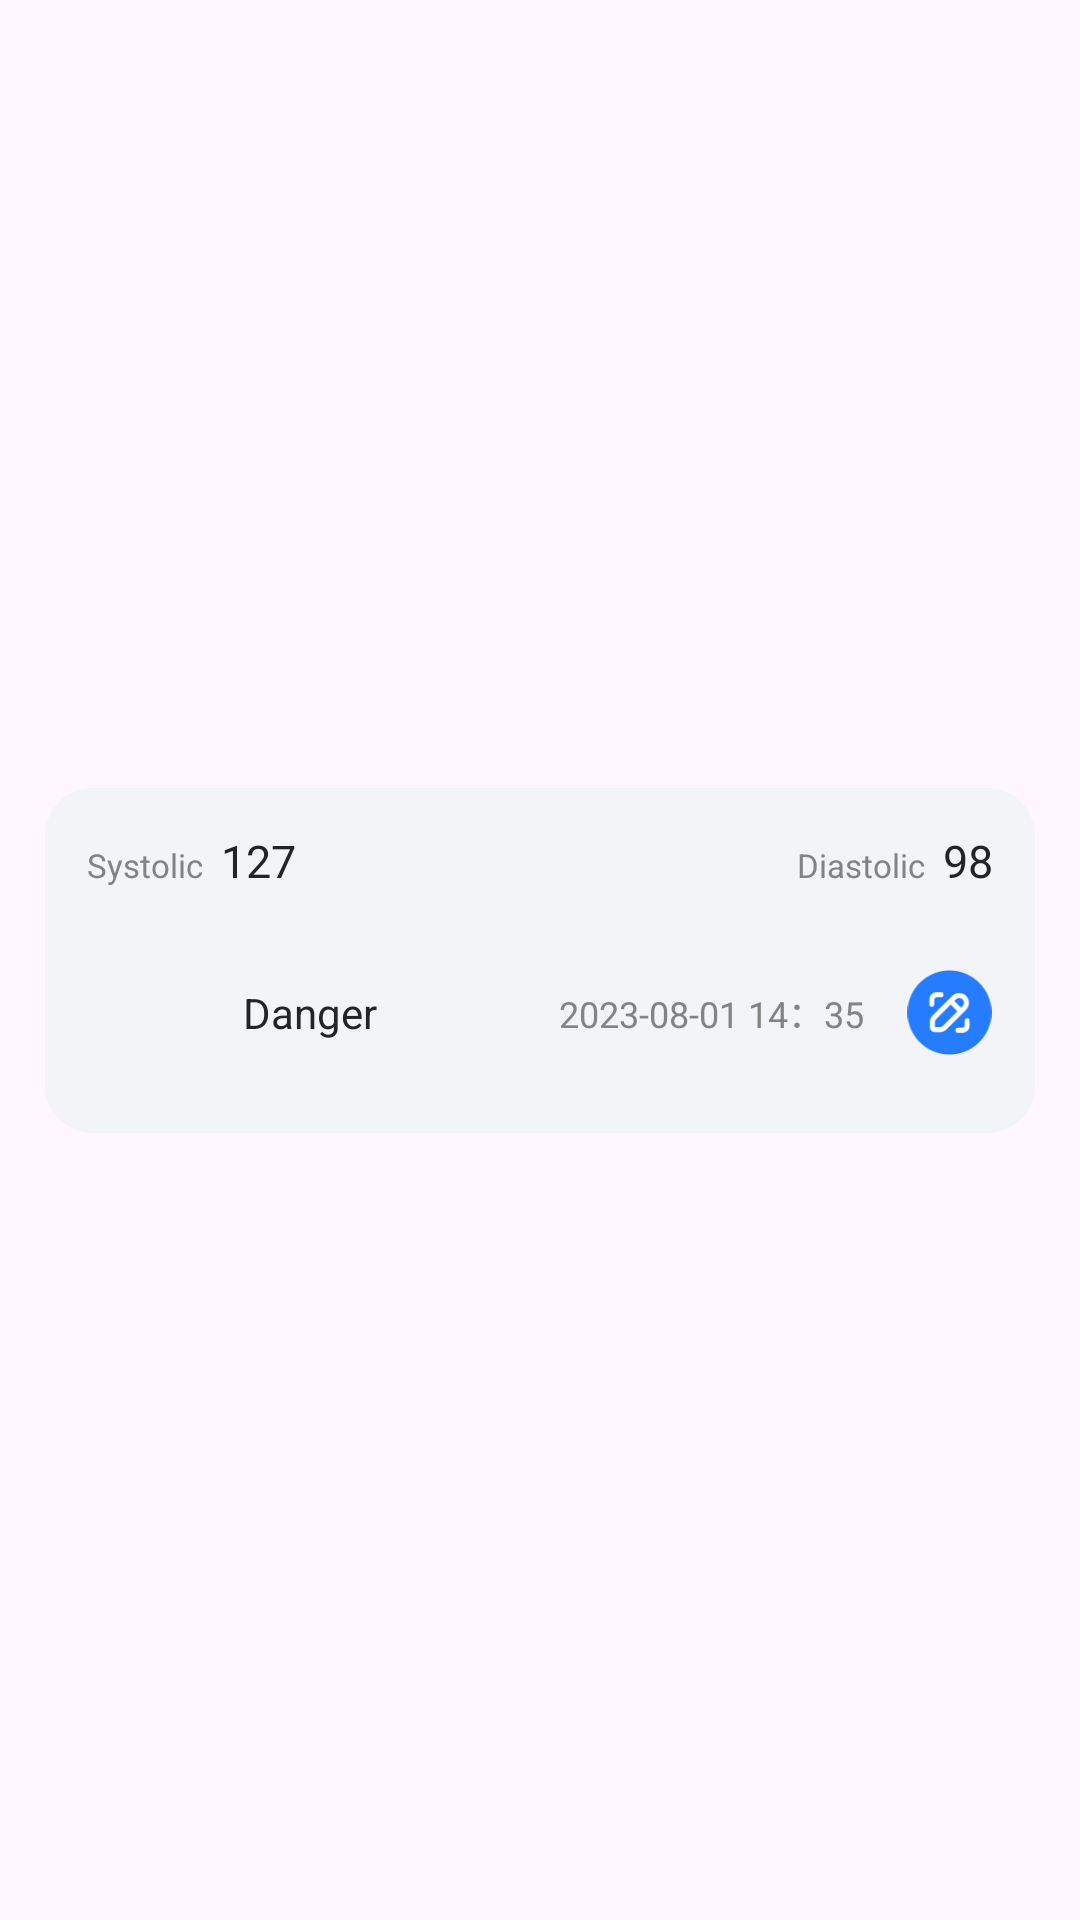

Icon bounding boxes for this 1080px×1920px phone screenshot, format (x1, y1, x2, y2):
record edit ed: (907, 970, 992, 1055)
